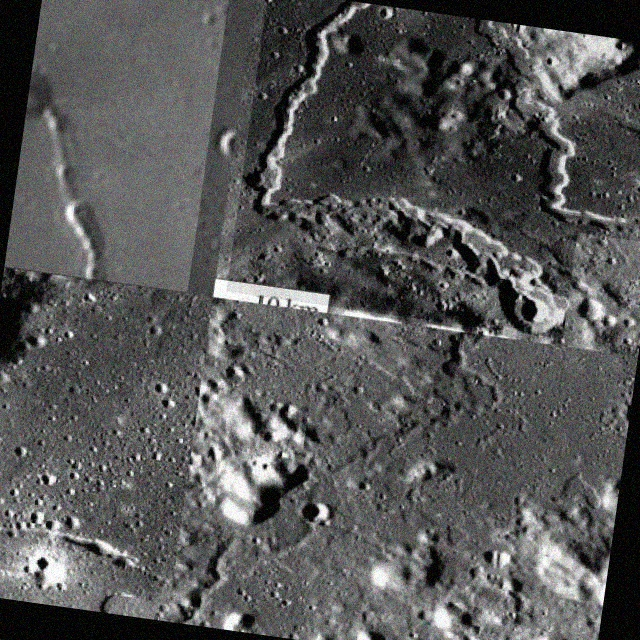crater: (226, 0, 605, 339), (168, 297, 519, 640), (4, 0, 230, 292), (437, 17, 640, 243)
